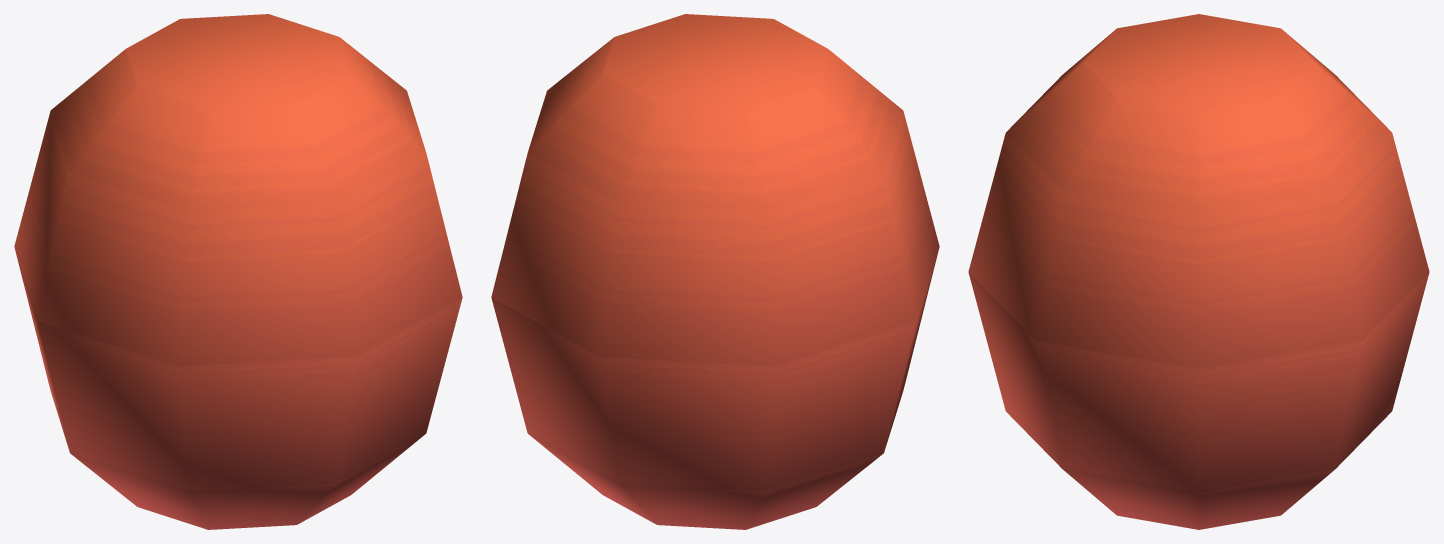
File: Toy_Ball.glb
The picture shows the model from 3 angles, left to right: view 1: azimuth 30°, elevation 25°; view 2: azimuth 150°, elevation 25°; view 3: azimuth 270°, elevation 25°; orthographic projection.
Visible parts, largest first — view 1: Toy_Ball; view 2: Toy_Ball; view 3: Toy_Ball.
Boxes of the visible parts, x1=… form: Toy_Ball: x1=14, y1=14, x2=462, y2=529; Toy_Ball: x1=491, y1=14, x2=939, y2=529; Toy_Ball: x1=968, y1=14, x2=1429, y2=529.
Size of what is drawn, in the model's own units: 0.2484 by 0.2484 by 0.2484.
Materials: 1 (1 with a texture image).
